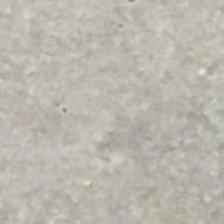Non_Crack: (12, 4, 221, 203)
